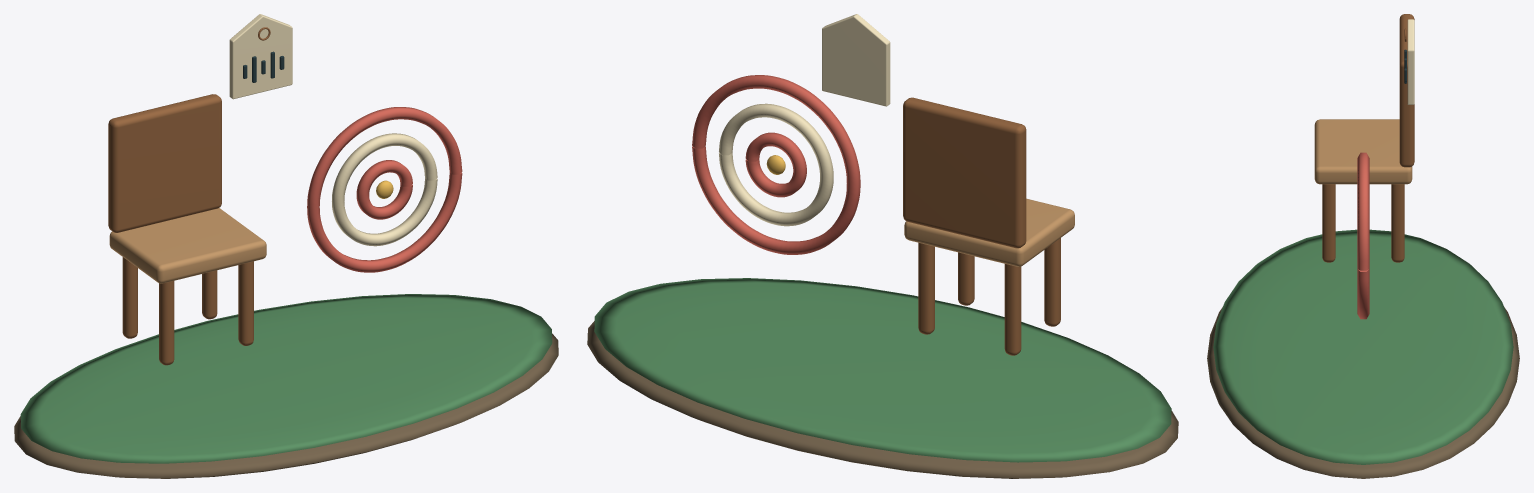
File: complete-third-seat-position.glb
3 renders of one model, left to right at view 1: azimuth 30°, elevation 25°; view 2: azimuth 150°, elevation 25°; view 3: azimuth 270°, elevation 25°, orthographic. The views are drawn at different scales.
Visible parts, largest first — view 1: complete-third-seat-position_surface_01, complete-third-seat-position_surface_03, complete-third-seat-position_surface_00, complete-third-seat-position_surface_05, complete-third-seat-position_surface_04, complete-third-seat-position_surface_02; view 2: complete-third-seat-position_surface_01, complete-third-seat-position_surface_03, complete-third-seat-position_surface_00, complete-third-seat-position_surface_05, complete-third-seat-position_surface_04, complete-third-seat-position_surface_02; view 3: complete-third-seat-position_surface_01, complete-third-seat-position_surface_00, complete-third-seat-position_surface_02, complete-third-seat-position_surface_03, complete-third-seat-position_surface_04, complete-third-seat-position_surface_05.
Part boxes in pixels (left/top/right/bottom): complete-third-seat-position_surface_01: left=20, top=294, right=552, bottom=463; complete-third-seat-position_surface_03: left=108, top=27, right=270, bottom=365; complete-third-seat-position_surface_00: left=14, top=333, right=558, bottom=478; complete-third-seat-position_surface_05: left=229, top=14, right=437, bottom=246; complete-third-seat-position_surface_04: left=307, top=107, right=462, bottom=272; complete-third-seat-position_surface_02: left=109, top=208, right=266, bottom=283; complete-third-seat-position_surface_01: left=594, top=278, right=1171, bottom=462; complete-third-seat-position_surface_03: left=903, top=97, right=1060, bottom=355; complete-third-seat-position_surface_00: left=587, top=321, right=1178, bottom=478; complete-third-seat-position_surface_05: left=719, top=14, right=890, bottom=226; complete-third-seat-position_surface_04: left=692, top=75, right=860, bottom=254; complete-third-seat-position_surface_02: left=904, top=198, right=1074, bottom=266; complete-third-seat-position_surface_01: left=1213, top=229, right=1513, bottom=464; complete-third-seat-position_surface_00: left=1207, top=307, right=1519, bottom=478; complete-third-seat-position_surface_02: left=1314, top=119, right=1412, bottom=184; complete-third-seat-position_surface_03: left=1322, top=14, right=1414, bottom=262; complete-third-seat-position_surface_04: left=1357, top=152, right=1369, bottom=319; complete-third-seat-position_surface_05: left=1407, top=19, right=1414, bottom=104.
Bounding box in the file's own units: 4.56 × 3.12 × 2.5.
